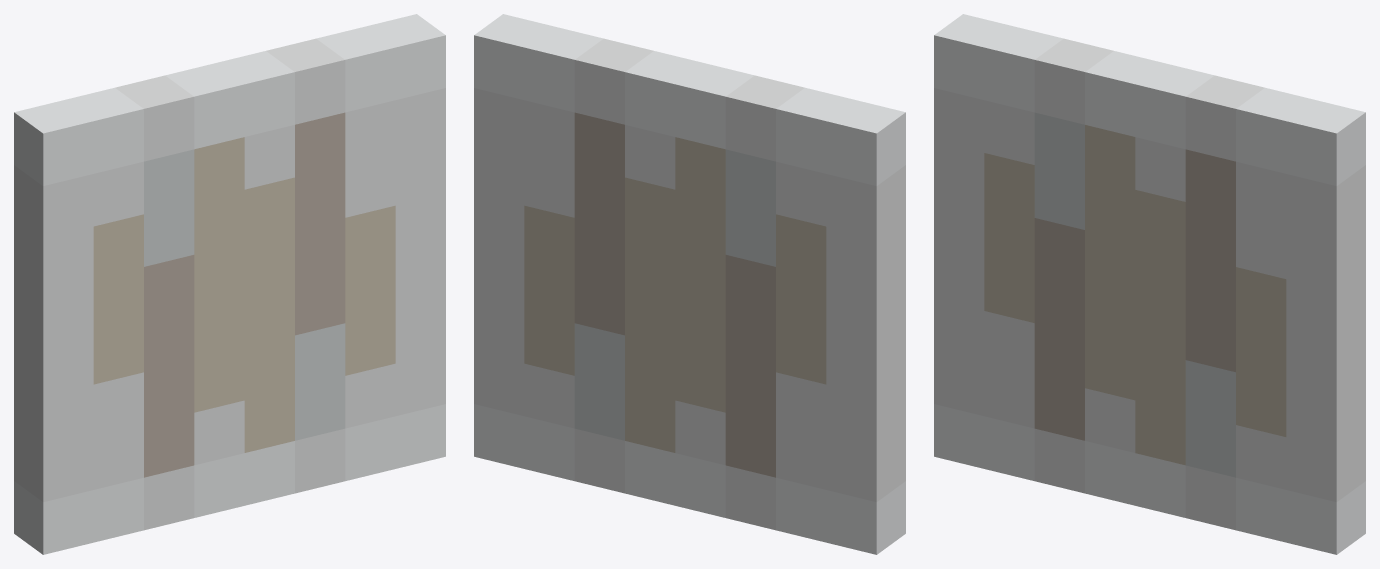
The model's file is White Sticky Paintball Explosive Item.glb.
3 views of the same model, side by side, from view 1: azimuth 30°, elevation 25°; view 2: azimuth 150°, elevation 25°; view 3: azimuth 330°, elevation 25° (orthographic).
Parts seen in each view (by area): view 1: generated; view 2: generated; view 3: generated.
Part boxes in pixels (box(x1,y1,x2,y2)): generated: box(14, 14, 445, 554); generated: box(474, 14, 905, 554); generated: box(934, 14, 1365, 554).
Size of the model in its own units: 8 by 8 by 1.
1 material, 1 textured.
